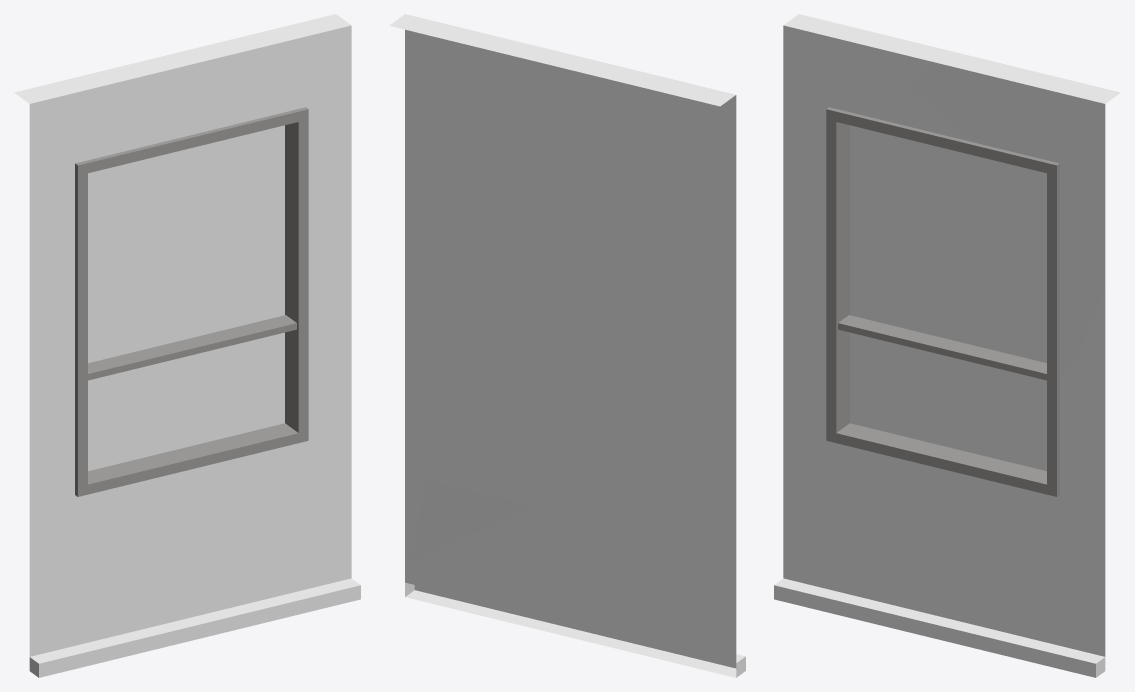
Rendered from 05_wall(window).FBX.
3 views of the same model, side by side, from view 1: azimuth 30°, elevation 25°; view 2: azimuth 150°, elevation 25°; view 3: azimuth 330°, elevation 25° (orthographic). The views are drawn at different scales.
Parts seen in each view (by area): view 1: 05_wall(window), 05_wall_window(light); view 2: 05_wall_window(light), 05_wall(window); view 3: 05_wall(window), 05_wall_window(light).
Part boxes in pixels (<box>): 05_wall(window): <box>14,14,360,677</box>; 05_wall_window(light): <box>88,125,284,471</box>; 05_wall_window(light): <box>418,71,694,544</box>; 05_wall(window): <box>389,14,745,677</box>; 05_wall(window): <box>774,14,1120,677</box>; 05_wall_window(light): <box>850,125,1046,471</box>.
Size of the model in its own units: 256 by 432 by 34.48.
